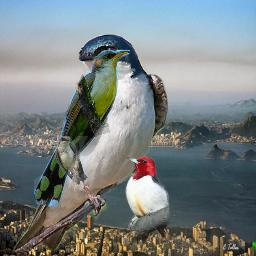Cuckoo: (34, 50, 130, 207)
Swallow: (13, 31, 169, 254), (55, 136, 88, 185)
Woodpecker: (123, 156, 171, 252)
